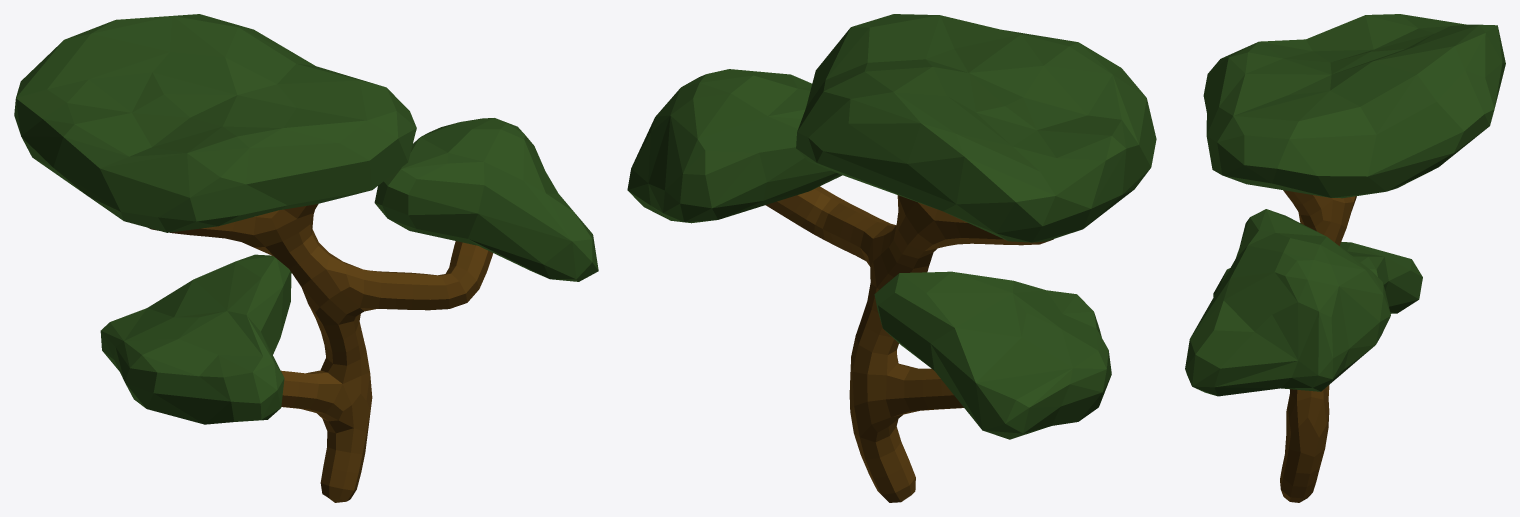
Rendered from TREE3_F.fbx.
3 renders of one model, left to right at view 1: azimuth 30°, elevation 25°; view 2: azimuth 150°, elevation 25°; view 3: azimuth 270°, elevation 25°, orthographic. The views are drawn at different scales.
Visible parts, largest first — view 1: Tree_3; view 2: Tree_3; view 3: Tree_3.
Part boxes in pixels (x1,y1,x2,y2): Tree_3: (14,14,598,502); Tree_3: (627,14,1156,502); Tree_3: (1185,14,1505,502).
Size of the model in its own units: 6540 by 5923 by 4132.
Materials: 1 (1 with a texture image).
